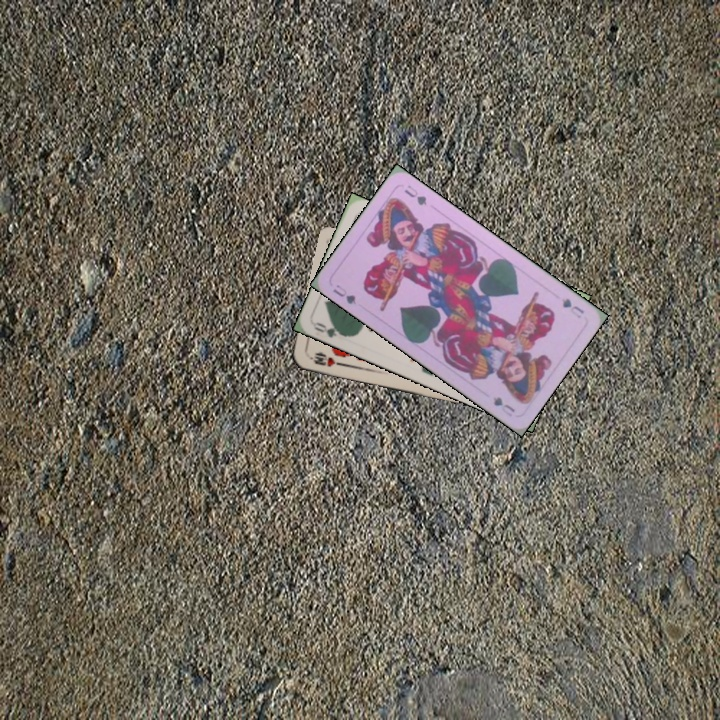GO: (310, 318, 350, 340)
GU: (328, 280, 359, 307), (557, 294, 587, 321)
H10: (306, 349, 345, 369)
